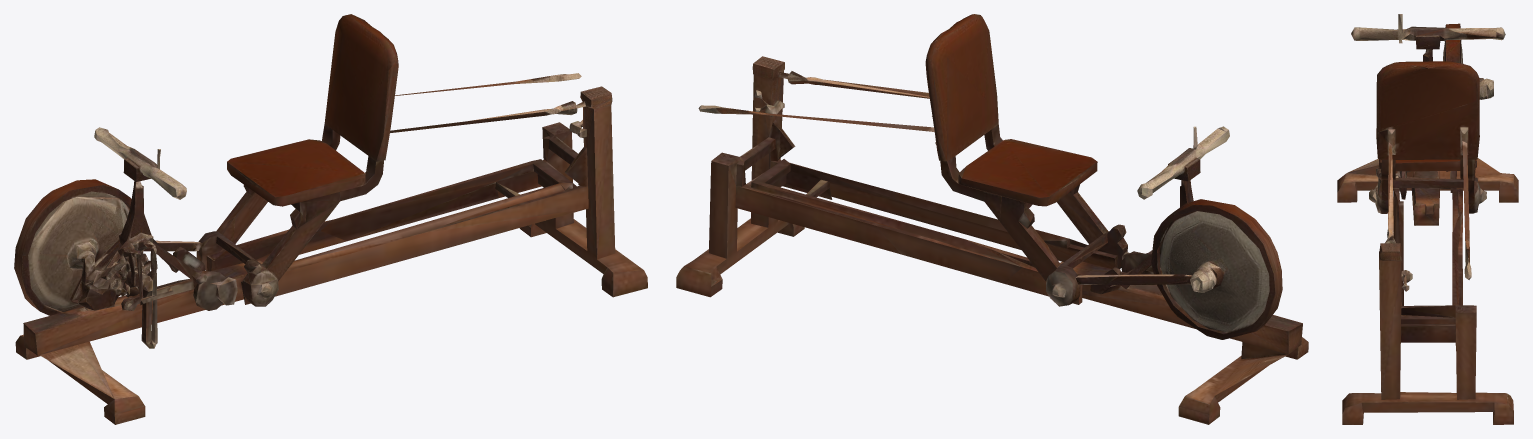
The model's file is mj-gym-rowing-machine.glb.
3 views of the same model, side by side, from view 1: azimuth 30°, elevation 25°; view 2: azimuth 150°, elevation 25°; view 3: azimuth 270°, elevation 25° (orthographic). The views are drawn at different scales.
Visible parts, largest first — view 1: mj-gym-rowing-machine; view 2: mj-gym-rowing-machine; view 3: mj-gym-rowing-machine.
Boxes of the visible parts, x1,y1,x2,y2 form: mj-gym-rowing-machine: (14, 14, 647, 424); mj-gym-rowing-machine: (676, 14, 1308, 424); mj-gym-rowing-machine: (1337, 14, 1518, 424).
Bounding box in the file's own units: 1.7 × 0.8124 × 0.5086.
Materials: 1 (1 with a texture image).
